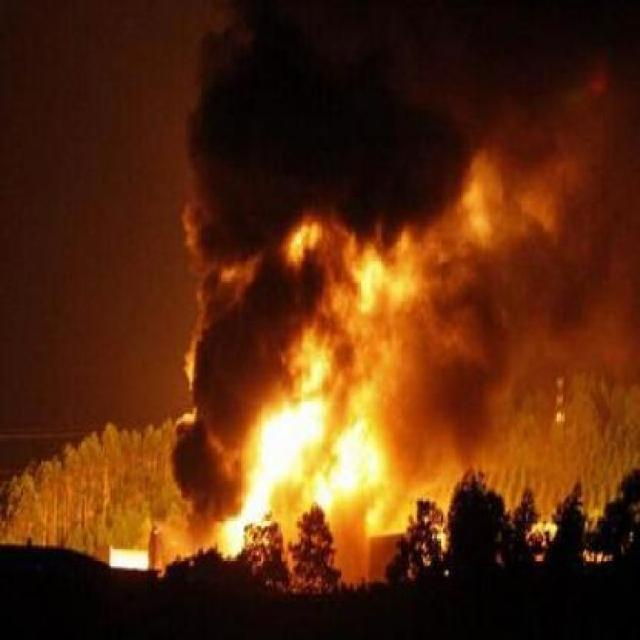Fire: (214, 250, 526, 542)
Smoke: (164, 8, 634, 400)
